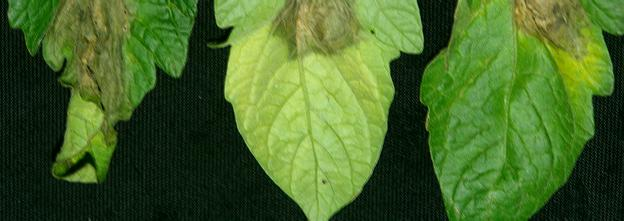Tomato mold leaf: (218, 0, 444, 220), (0, 0, 207, 219), (420, 0, 624, 220)
